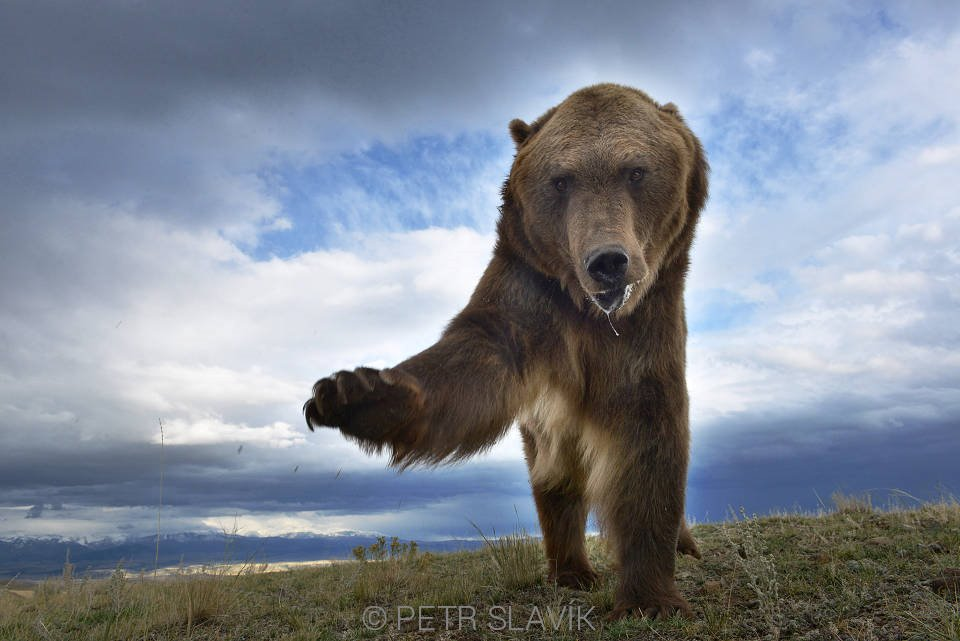bear: (485, 73, 717, 320)
